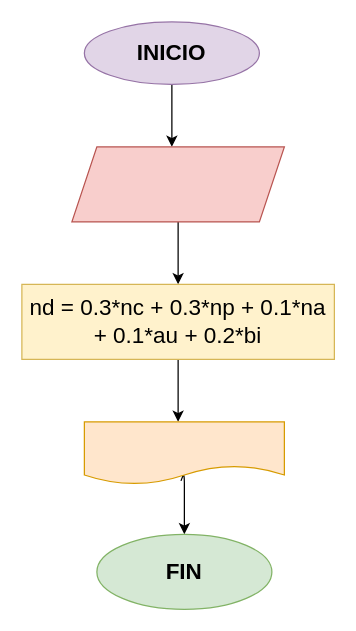
This 356x631 diagram has some shape labels left out. The shapes that lost their labels are listed below. From the top down, each one's centre as x and y in pixels, then its label:
At [177,184]: "nc. cp, na, au, bi".
At [183,452]: "nd".
